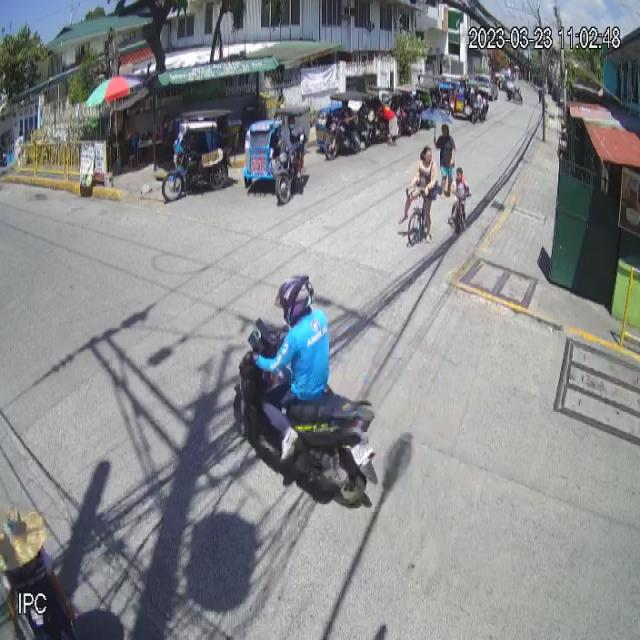Motorcycle: (233, 316, 378, 511)
Tricycle: (243, 104, 311, 206)
